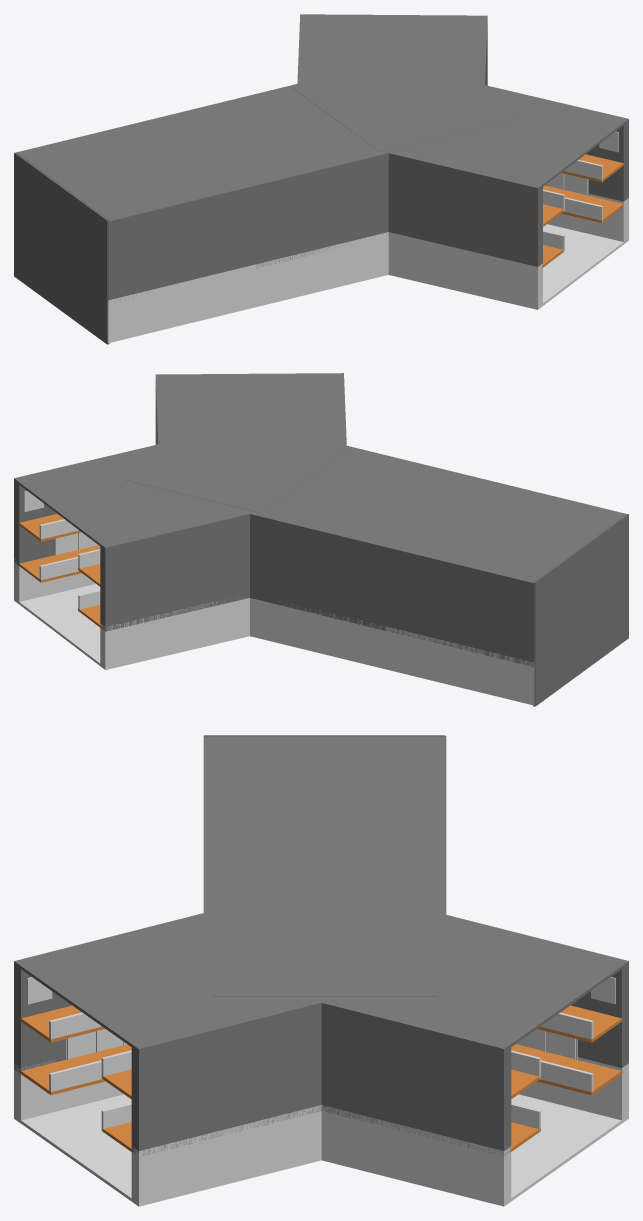
Rendered from X room.fbx.
3 renders of one model, top to bottom at view 1: azimuth 30°, elevation 25°; view 2: azimuth 150°, elevation 25°; view 3: azimuth 270°, elevation 25°, orthographic. The views are drawn at different scales.
Visible parts, largest first — view 1: Cube, Cube.102, Cube.015, Cube.026, Cube.074, Cube.041, Cube.084, Cube.010, Cube.075, Cube.001, Cube.036, Cube.078 (+16 smaller); view 2: Cube, Cube.102, Cube.015, Cube.026, Cube.074, Cube.041, Cube.061, Cube.011, Cube.037, Cube.002, Cube.005, Cube.055 (+16 smaller); view 3: Cube, Cube.102, Cube.026, Cube.074, Cube.041, Cube.085, Cube.060, Cube.043, Cube.076, Cube.054, Cube.079, Cube.089 (+21 smaller).
Part boxes in pixels (box(x1,y1,x2,y2)): Cube: box(15, 121, 250, 221); Cube.102: box(293, 54, 517, 151); Cube.015: box(14, 152, 109, 344); Cube.026: box(168, 89, 377, 181); Cube.074: box(399, 88, 623, 189); Cube.041: box(308, 14, 476, 86); Cube.084: box(388, 150, 542, 230); Cube.010: box(103, 181, 255, 261); Cube.075: box(388, 232, 542, 309); Cube.001: box(108, 264, 255, 343); Cube.036: box(251, 147, 403, 225); Cube.078: box(388, 194, 542, 266); Cube: box(391, 482, 627, 579); Cube.102: box(123, 415, 348, 513); Cube.015: box(533, 514, 628, 706); Cube.026: box(264, 451, 473, 542); Cube.074: box(166, 373, 335, 445); Cube.041: box(19, 448, 240, 549); Cube.061: box(100, 509, 254, 590); Cube.011: box(385, 543, 539, 625); Cube.037: box(237, 508, 390, 589); Cube.002: box(385, 626, 534, 705); Cube.005: box(385, 590, 534, 666); Cube.055: box(100, 557, 249, 631); Cube: box(217, 736, 432, 829); Cube.102: box(212, 909, 437, 996); Cube.026: box(217, 829, 432, 909); Cube.074: box(14, 920, 317, 1051); Cube.041: box(325, 921, 628, 1046); Cube.085: box(131, 996, 324, 1104); Cube.060: box(315, 996, 511, 1104); Cube.043: box(321, 1105, 511, 1206); Cube.076: box(131, 1105, 321, 1206); Cube.054: box(321, 1055, 511, 1156); Cube.079: box(131, 1057, 321, 1156); Cube.089: box(14, 1094, 138, 1205).
Size of the model in its own units: 42166 by 10004 by 34946.
